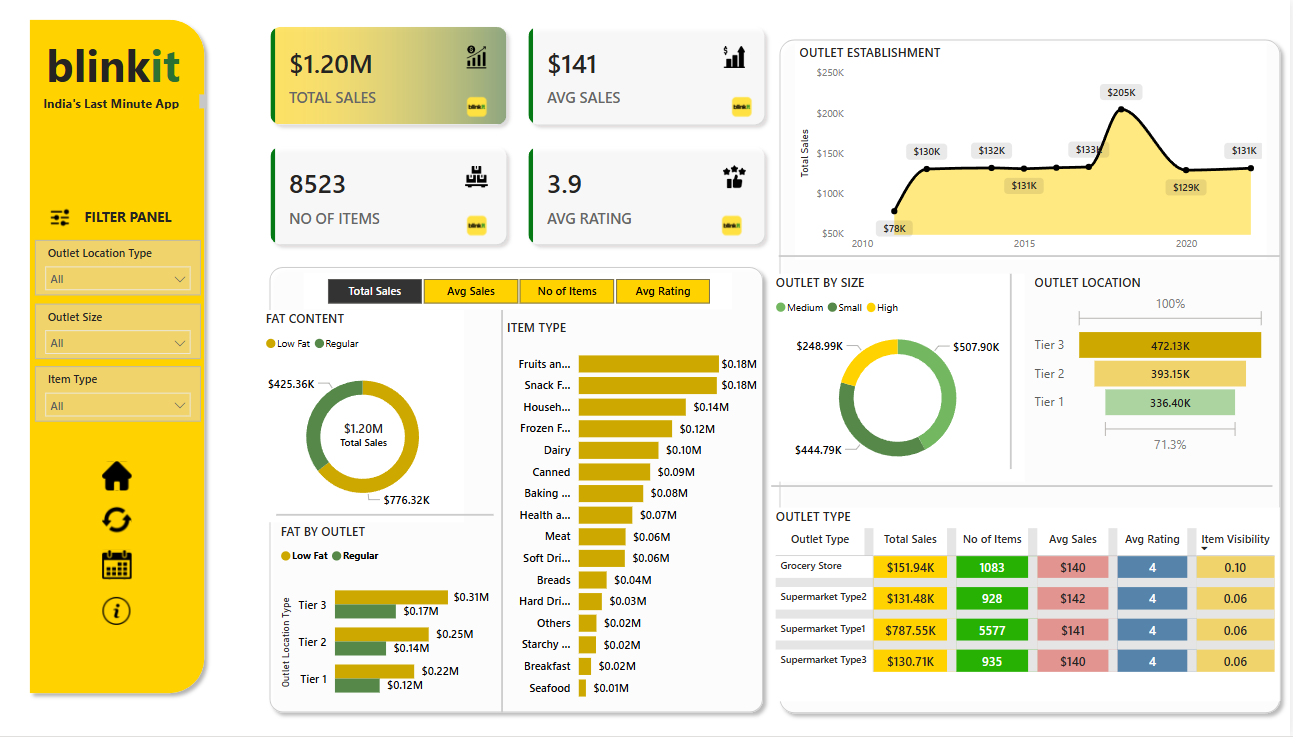

This screenshot's page, from the dashboard's own definition file:
{"tool":"powerbi","page":{"name":"Page 1","canvas":[1400,800],"ordinal":0},"visuals":[{"type":"shape","box":[22.8,12.1,207.8,749.3],"z":0},{"type":"textbox","box":[37.5,33,169.6,76.5],"z":1000},{"type":"textbox","box":[21,97.6,208.6,25.5],"z":2000},{"type":"cardVisual","fields":{"Data":["BlinkIT Grocery Data.Total Sales","BlinkIT Grocery Data.Avg Sales","BlinkIT Grocery Data.No of Items","BlinkIT Grocery Data.Avg Rating"]},"box":[276.2,12,570,270],"z":3000},{"type":"shape","box":[284.2,281.5,553.6,501.3],"z":4000},{"type":"donutChart","title":"FAT CONTENT","fields":{"Y":["BlinkIT Grocery Data.Total Sales"],"Category":["BlinkIT Grocery Data.Item Fat Content"]},"box":[284.2,336.5,219.8,230.6],"z":5000},{"type":"slicer","fields":{"Values":["Metrics.Metrics"]},"box":[329.8,296.2,465.1,40.2],"z":6000},{"type":"cardVisual","fields":{"Data":["BlinkIT Grocery Data.Total Sales"]},"box":[340.5,431.6,108.6,79.1],"z":7000},{"type":"clusteredBarChart","title":"FAT BY OUTLET","fields":{"Y":["BlinkIT Grocery Data.Total Sales"],"Category":["BlinkIT Grocery Data.Outlet Location Type"],"Series":["BlinkIT Grocery Data.Item Fat Content"]},"box":[300.3,567,235.9,207.8],"z":8000},{"type":"shape","box":[300.3,541.6,235.9,34.9],"z":9000},{"type":"shape","box":[517.4,336.5,56.3,437],"z":10000},{"type":"barChart","title":"ITEM TYPE","fields":{"Y":["BlinkIT Grocery Data.Total Sales"],"Category":["BlinkIT Grocery Data.Item Type"]},"box":[545.6,345.9,281.5,424.9],"z":11000},{"type":"shape","box":[837.8,33.5,561.7,749.3],"z":12000},{"type":"lineChart","title":" OUTLET ESTABLISHMENT","fields":{"Category":["BlinkIT Grocery Data.Outlet Establishment Year"],"Y":["BlinkIT Grocery Data.Total Sales"]},"box":[863.3,46.9,512.1,234.6],"z":13000},{"type":"shape","box":[845.9,260.1,544.2,34.9],"z":14000},{"type":"donutChart","title":"OUTLET BY SIZE","fields":{"Y":["BlinkIT Grocery Data.Total Sales"],"Category":["BlinkIT Grocery Data.Outlet Size"]},"box":[837.8,297.6,274.8,225.2],"z":15000},{"type":"shape","box":[1069.7,297.6,56.3,213.1],"z":16000},{"type":"funnel","title":"OUTLET LOCATION","fields":{"Y":["Sum(BlinkIT Grocery Data.Sales)"],"Category":["BlinkIT Grocery Data.Outlet Location Type"]},"box":[1118,297.6,261.4,199.7],"z":17000},{"type":"shape","box":[837.8,510.7,544.2,34.9],"z":18000},{"type":"pivotTable","title":"OUTLET TYPE","fields":{"Rows":["BlinkIT Grocery Data.Outlet Type"],"Values":["BlinkIT Grocery Data.Total Sales","BlinkIT Grocery Data.No of Items","BlinkIT Grocery Data.Avg Sales","BlinkIT Grocery Data.Avg Rating","Avg(BlinkIT Grocery Data.Item Visibility)"]},"box":[837.8,550.9,552.3,210.5],"z":19000},{"type":"slicer","fields":{"Values":["BlinkIT Grocery Data.Outlet Location Type"]},"box":[37.5,260.1,179.6,60.3],"z":20000},{"type":"slicer","fields":{"Values":["BlinkIT Grocery Data.Outlet Size"]},"box":[37.5,329.8,179.6,60.3],"z":21000},{"type":"slicer","fields":{"Values":["BlinkIT Grocery Data.Item Type"]},"box":[37.5,398.1,179.6,60.3],"z":22000},{"type":"textbox","box":[45.6,219.8,185,40.2],"z":23000},{"type":"actionButton","box":[49.6,219.8,29.5,32.2],"z":24000},{"type":"actionButton","box":[100.5,544.6,52.3,40.2],"z":25000},{"type":"actionButton","box":[104.6,496.3,45.6,40.2],"z":26000},{"type":"actionButton","box":[104.6,592.8,45.6,40.2],"z":26001},{"type":"actionButton","box":[107.2,643.8,38.9,40.2],"z":26002},{"type":"actionButton","box":[495.4,97.2,44.4,34.3],"z":26003},{"type":"actionButton","box":[495.4,225.9,44.4,34.3],"z":26004},{"type":"actionButton","box":[782.4,97.2,44.4,34.3],"z":26005},{"type":"actionButton","box":[772.2,226.8,44.4,34.3],"z":26006}]}

Visuals, with their boxes in screenshot pixels (x1, y1, x2, y2), scaled from the page's 1400x800 canvas onto the 1293x737 screenshot:
shape: [21, 11, 213, 701]
textbox: [35, 30, 191, 101]
textbox: [19, 90, 212, 113]
cardVisual - BlinkIT Grocery Data.Total Sales x BlinkIT Grocery Data.Avg Sales: [255, 11, 782, 260]
shape: [262, 259, 774, 721]
"FAT CONTENT" donutChart: [262, 310, 465, 522]
slicer - Metrics.Metrics: [305, 273, 734, 310]
cardVisual - BlinkIT Grocery Data.Total Sales: [314, 398, 415, 470]
"FAT BY OUTLET" clusteredBarChart: [277, 522, 495, 714]
shape: [277, 499, 495, 531]
shape: [478, 310, 530, 713]
"ITEM TYPE" barChart: [504, 319, 764, 710]
shape: [774, 31, 1292, 721]
" OUTLET ESTABLISHMENT" lineChart: [797, 43, 1270, 259]
shape: [781, 240, 1284, 272]
"OUTLET BY SIZE" donutChart: [774, 274, 1028, 482]
shape: [988, 274, 1040, 470]
"OUTLET LOCATION" funnel: [1033, 274, 1274, 458]
shape: [774, 470, 1276, 503]
"OUTLET TYPE" pivotTable: [774, 508, 1284, 701]
slicer - BlinkIT Grocery Data.Outlet Location Type: [35, 240, 201, 295]
slicer - BlinkIT Grocery Data.Outlet Size: [35, 304, 201, 359]
slicer - BlinkIT Grocery Data.Item Type: [35, 367, 201, 422]
textbox: [42, 202, 213, 240]
actionButton: [46, 202, 73, 232]
actionButton: [93, 502, 141, 539]
actionButton: [97, 457, 139, 494]
actionButton: [97, 546, 139, 583]
actionButton: [99, 593, 135, 630]
actionButton: [458, 90, 499, 121]
actionButton: [458, 208, 499, 240]
actionButton: [723, 90, 764, 121]
actionButton: [713, 209, 754, 241]
